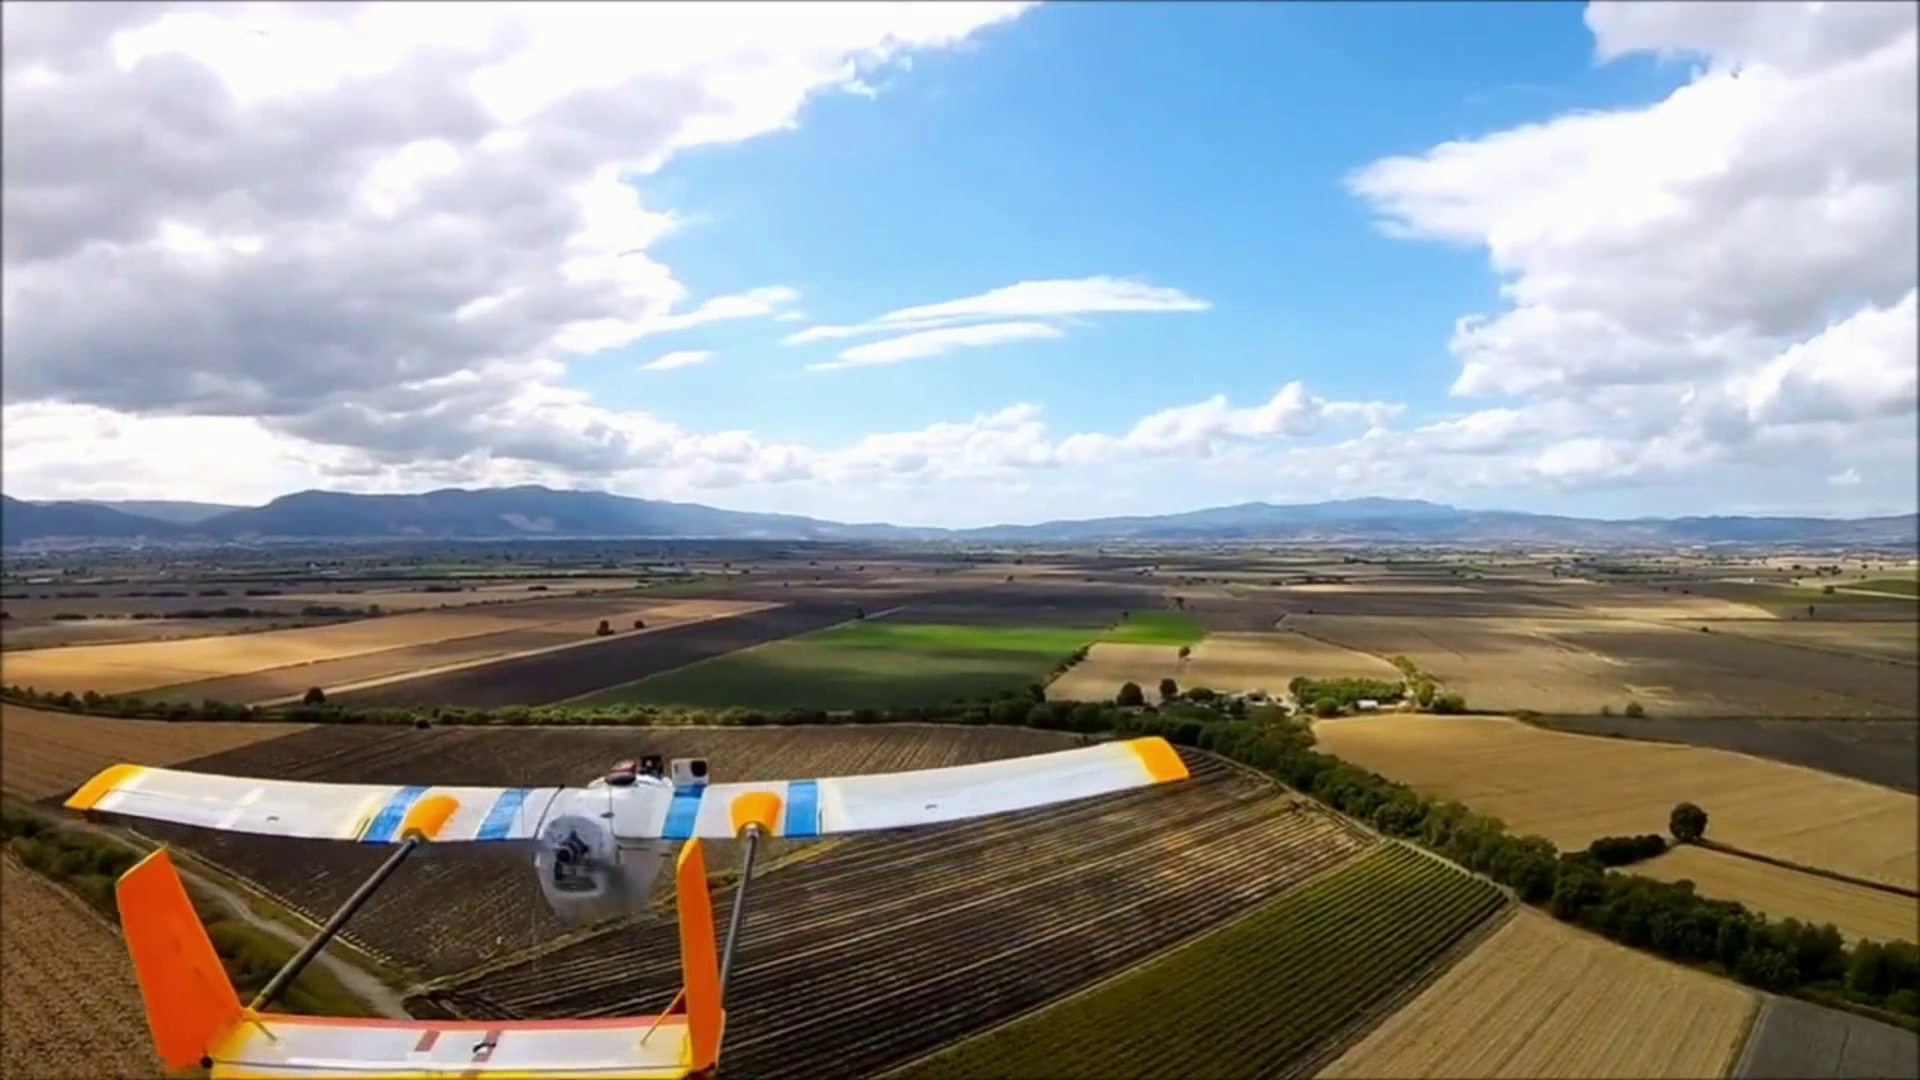airplane: (55, 735, 1187, 928)
